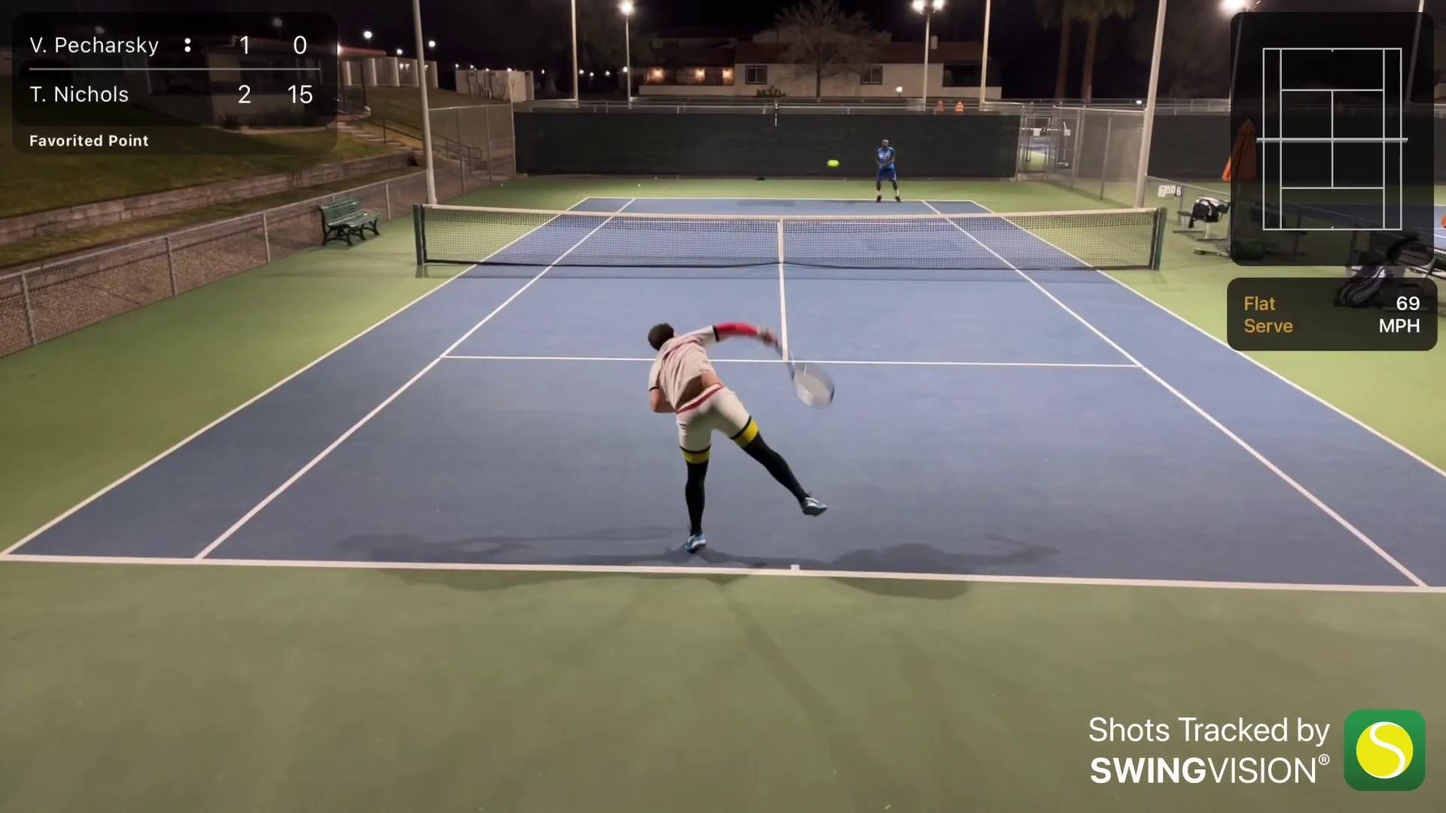ball: (826, 158, 839, 168)
